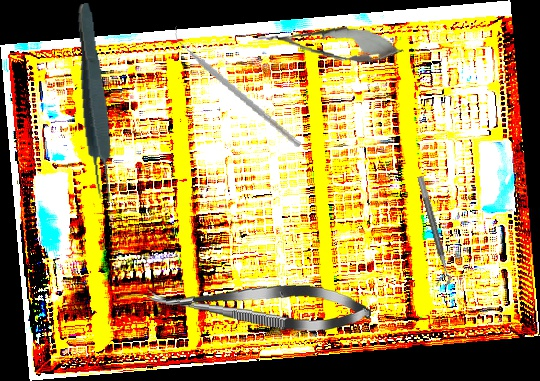Chopper: (159, 24, 317, 148)
Fixation Ring: (407, 175, 454, 290)
Micro Scissor: (145, 274, 373, 336), (252, 18, 406, 68)
Tissue Forceps: (70, 2, 118, 204)
